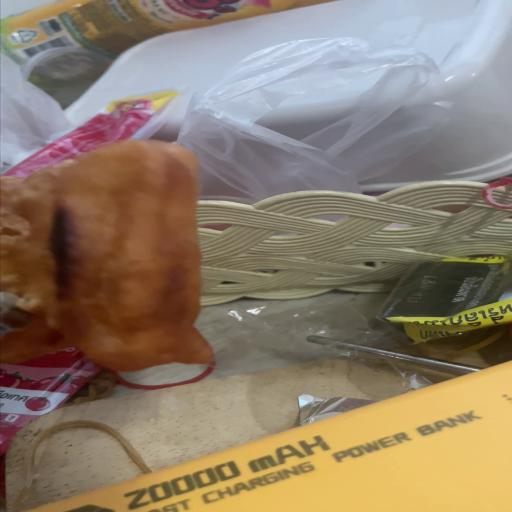street_burnt_defect: (1, 139, 206, 370)
